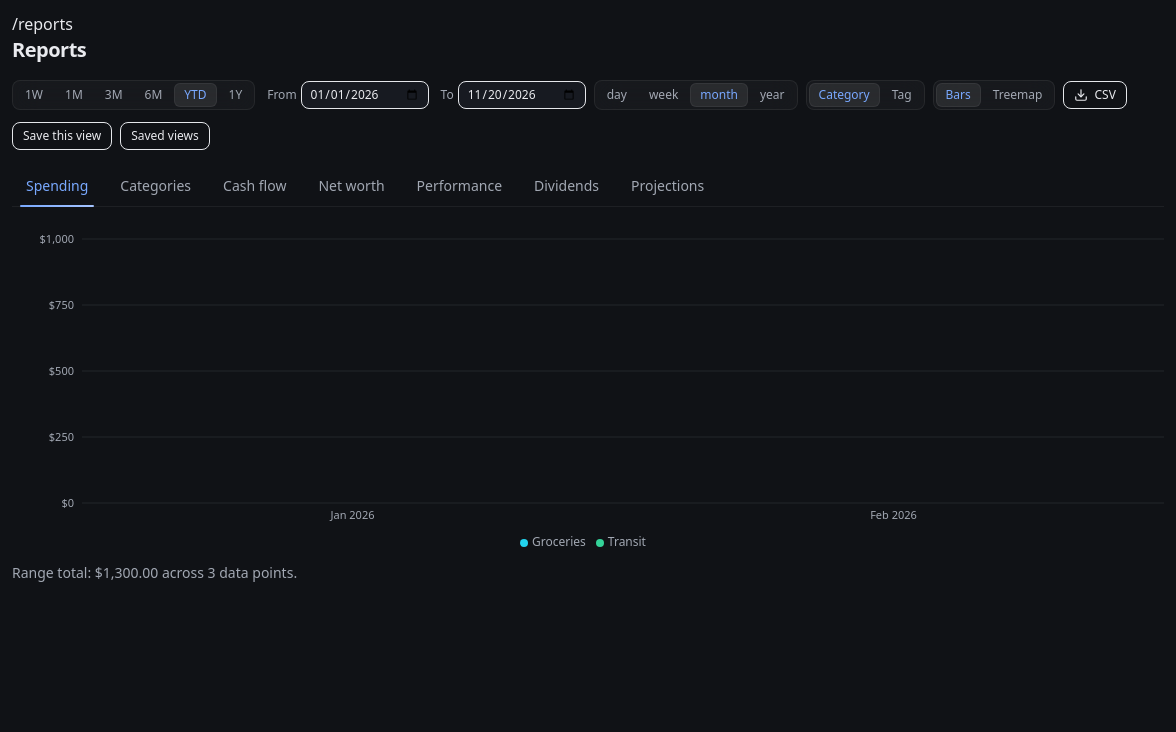
Scenario: M108 P1 — Spending tab chart view (docs/12 §Chart mapping) › the drill back control returns to the all-categories view
This screenshot has width=1176, height=732.
Check: the picture named "Spending by category" is shown, box left=12, top=231, right=1164, bottom=551
Click the tab "Treemap".
click(1018, 95)  # box left=983, top=83, right=1052, bottom=107
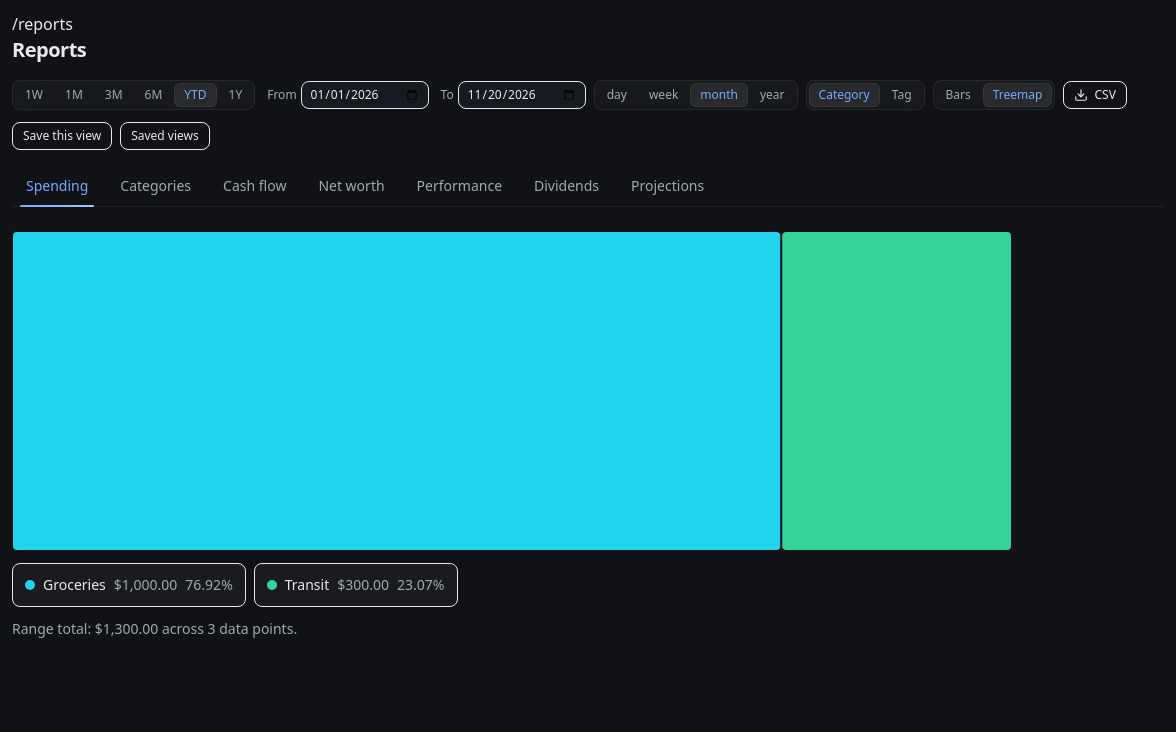
Click the button with aria-label "Transit —".
click(356, 585)  # box left=254, top=563, right=458, bottom=607
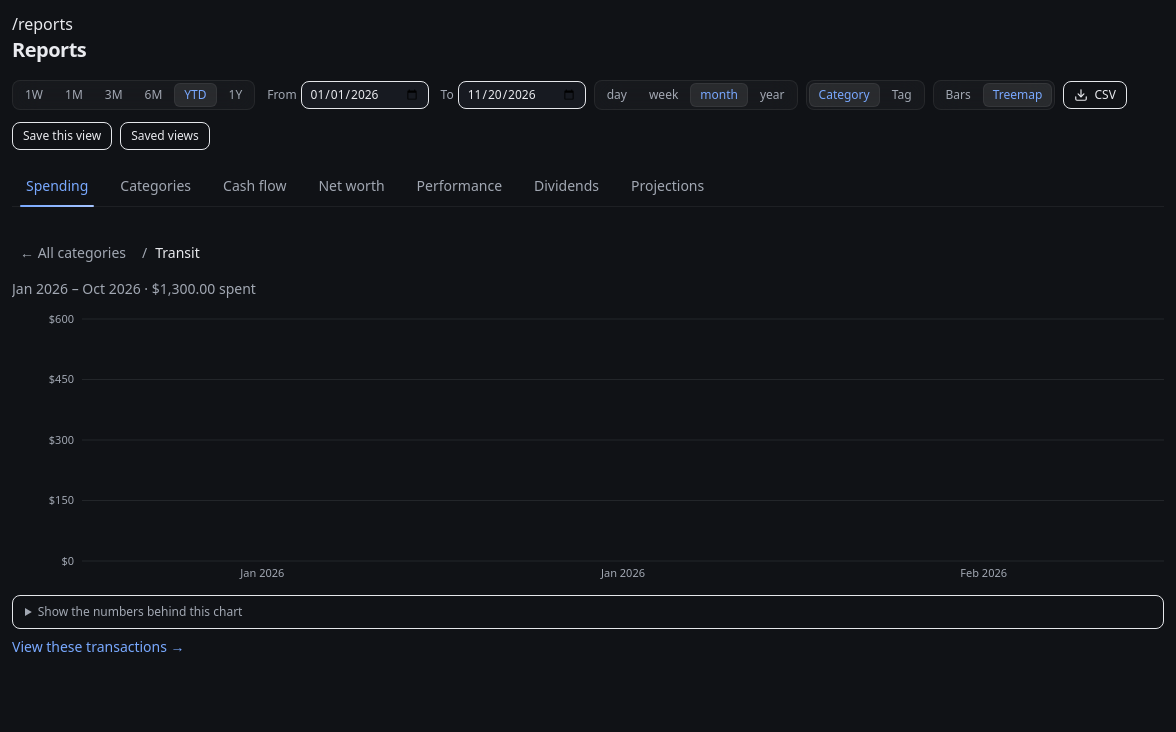
Click the button "← All categories".
click(73, 253)  # box left=12, top=231, right=134, bottom=275
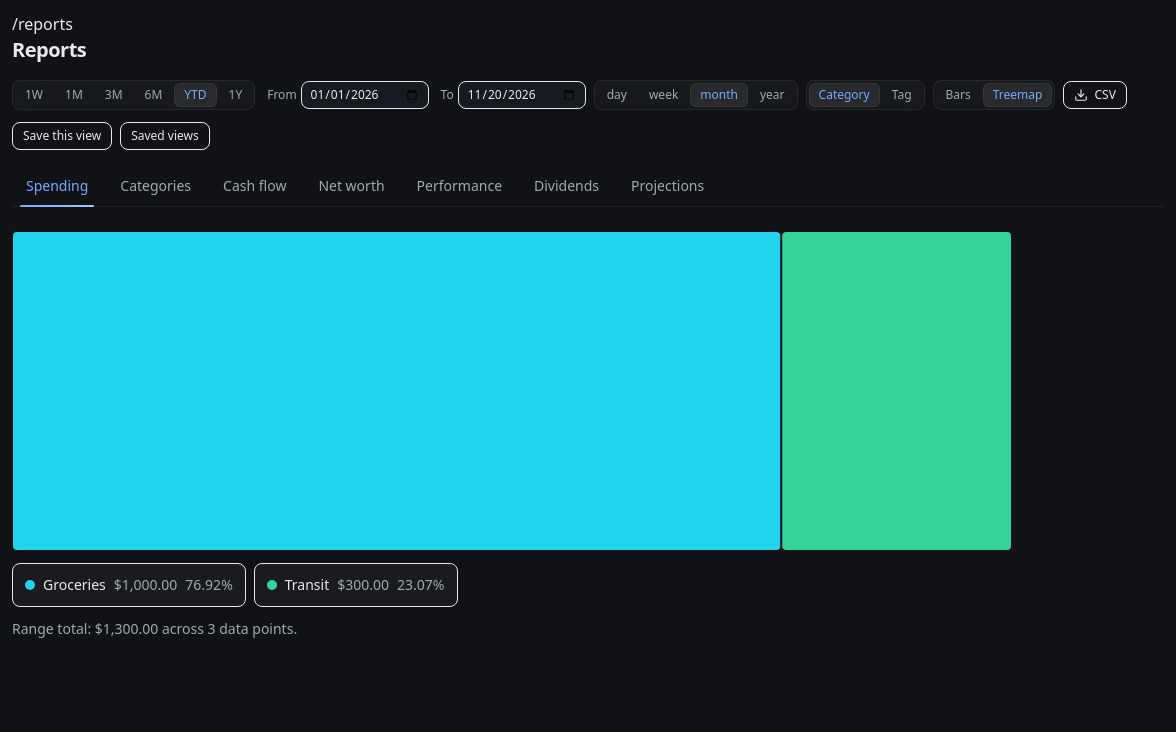
Check: the navigation bar "Breadcrumb" is gone
Check: the button with aria-label "Groceries —" is shown, box left=12, top=563, right=246, bottom=607
